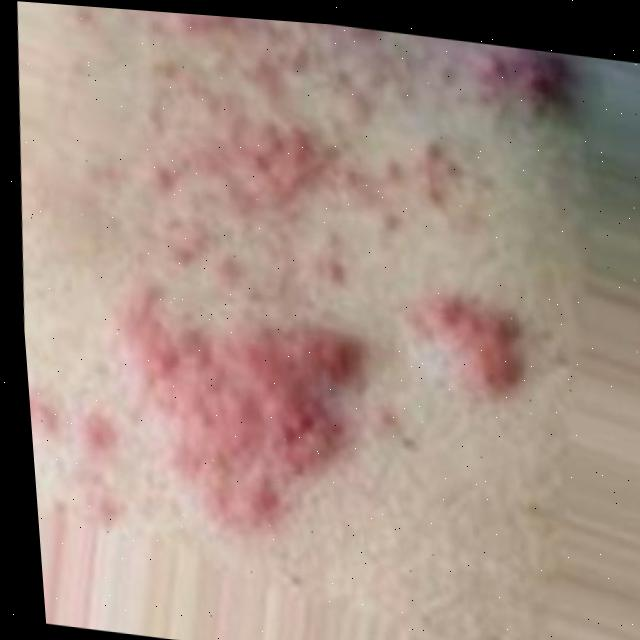Shingles: (143, 11, 566, 298), (410, 301, 523, 410)
